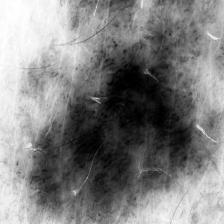Benign Marking or Mole: (30, 47, 220, 224)
